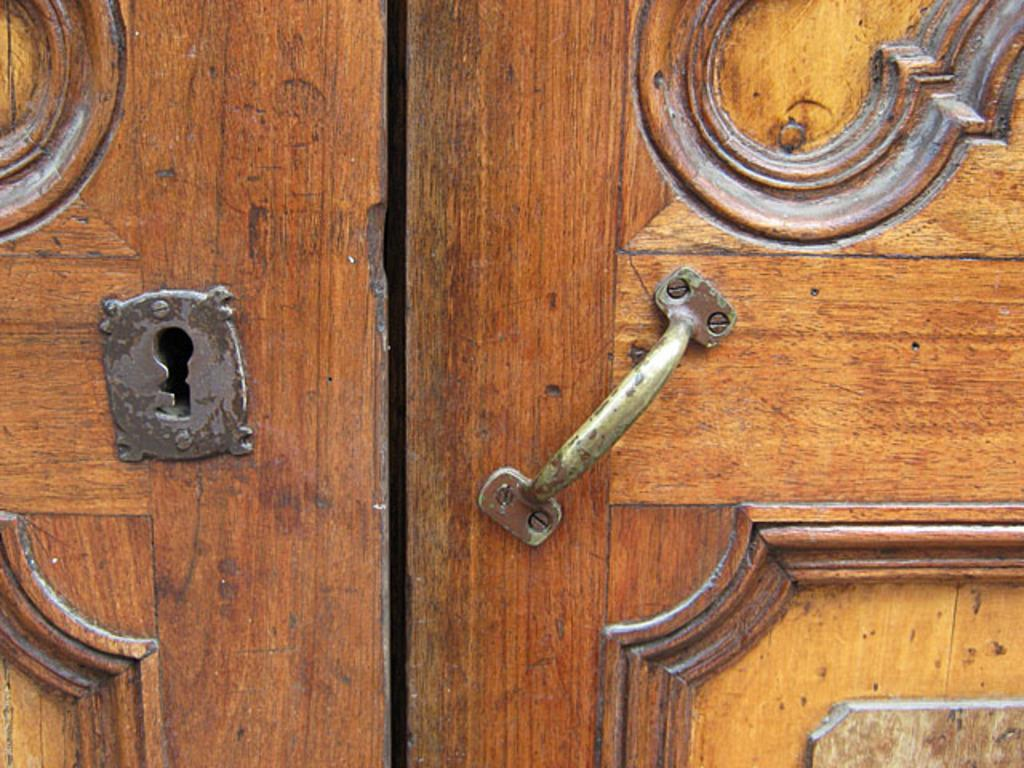handle: (467, 293, 748, 543)
